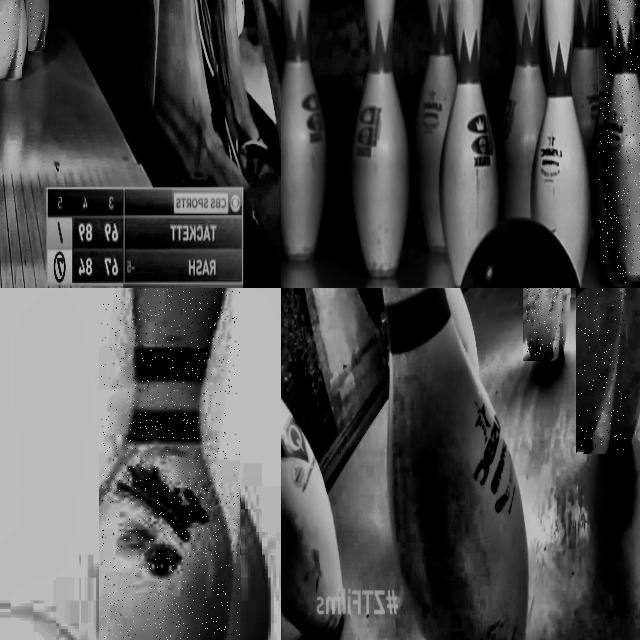bowling-ball: (461, 219, 579, 288)
bowling-pins: (381, 288, 528, 640), (101, 288, 240, 640), (439, 0, 498, 287), (530, 0, 590, 281), (351, 0, 410, 277), (281, 0, 326, 259), (599, 0, 640, 283), (414, 0, 455, 253), (499, 0, 546, 218), (578, 288, 626, 451), (572, 0, 604, 159), (526, 288, 561, 358), (3, 0, 19, 78), (30, 0, 45, 48)
